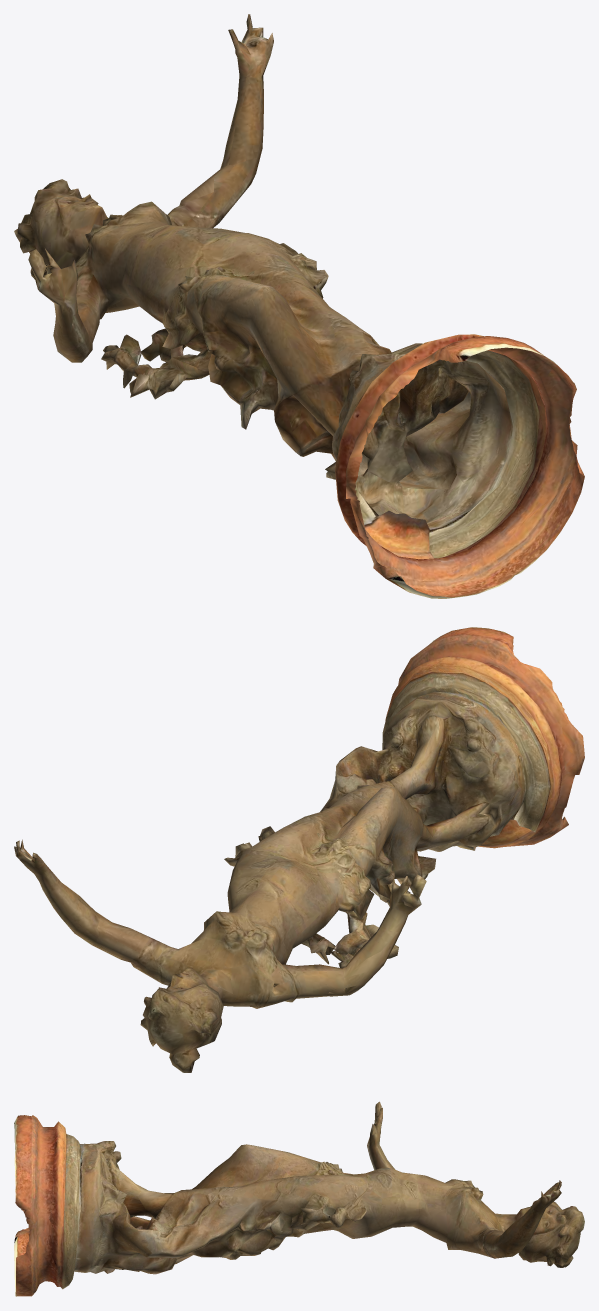
3 renders of one model, top to bottom at view 1: azimuth 30°, elevation 25°; view 2: azimuth 150°, elevation 25°; view 3: azimuth 270°, elevation 25°, orthographic. The views are drawn at different scales.
Parts seen in each view (by area): view 1: original; view 2: original; view 3: original.
Boxes of the visible parts, <box> form: original: <box>14,14,584,598</box>; original: <box>14,627,584,1072</box>; original: <box>14,1101,584,1296</box>.
Size of the model in its own units: 2.94 by 1.9 by 5.84.
Materials: 1 (1 with a texture image).
